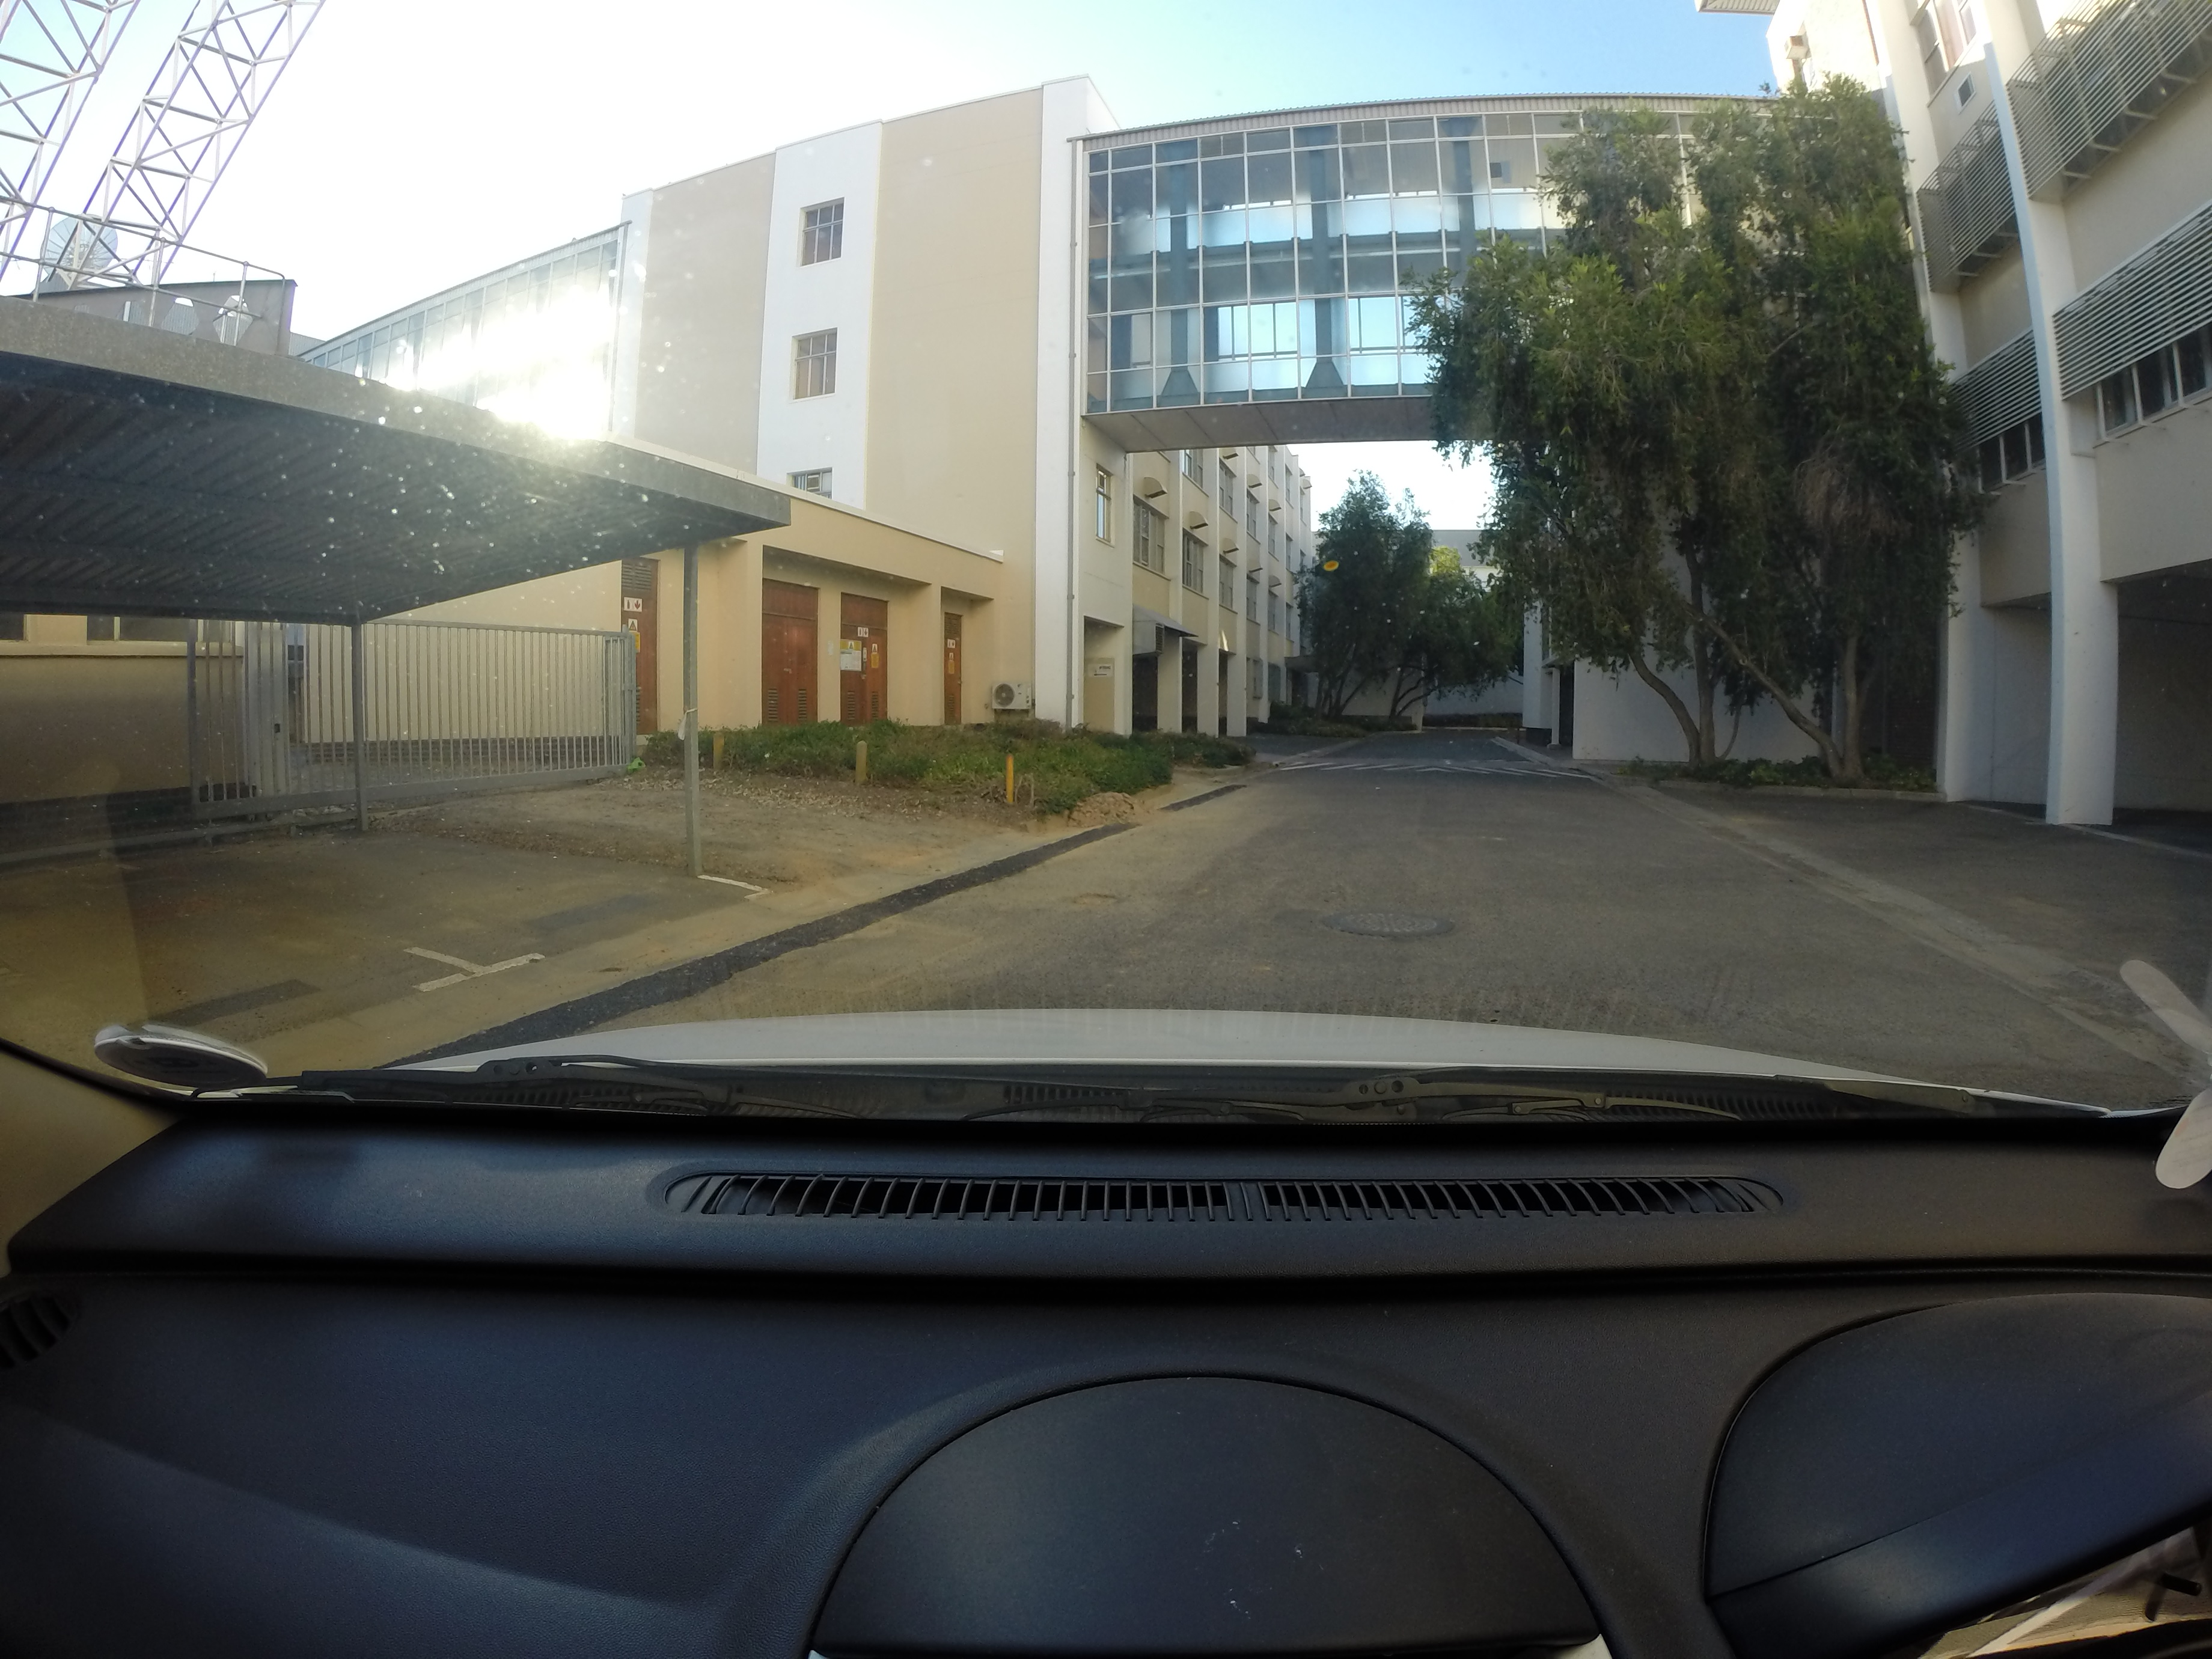pothole: (1055, 873, 1139, 918)
